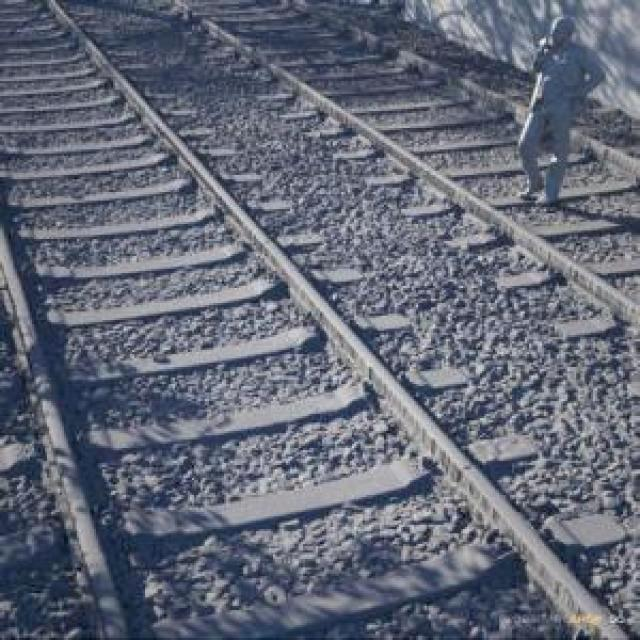rail: (1, 1, 640, 639), (157, 1, 640, 366)
